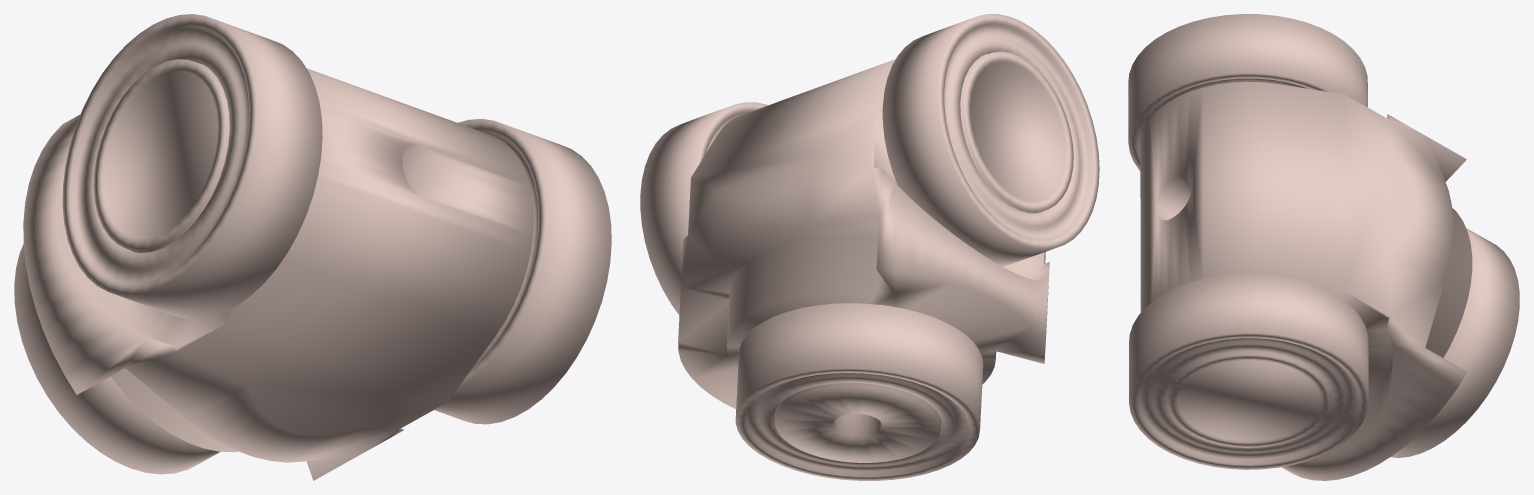
File: thumb_cmc_a_1.obj
3 views of the same model, side by side, from view 1: azimuth 30°, elevation 25°; view 2: azimuth 150°, elevation 25°; view 3: azimuth 270°, elevation 25° (orthographic). The views are drawn at different scales.
Bounding box in the file's own units: 19.25 × 19.06 × 16.32.
